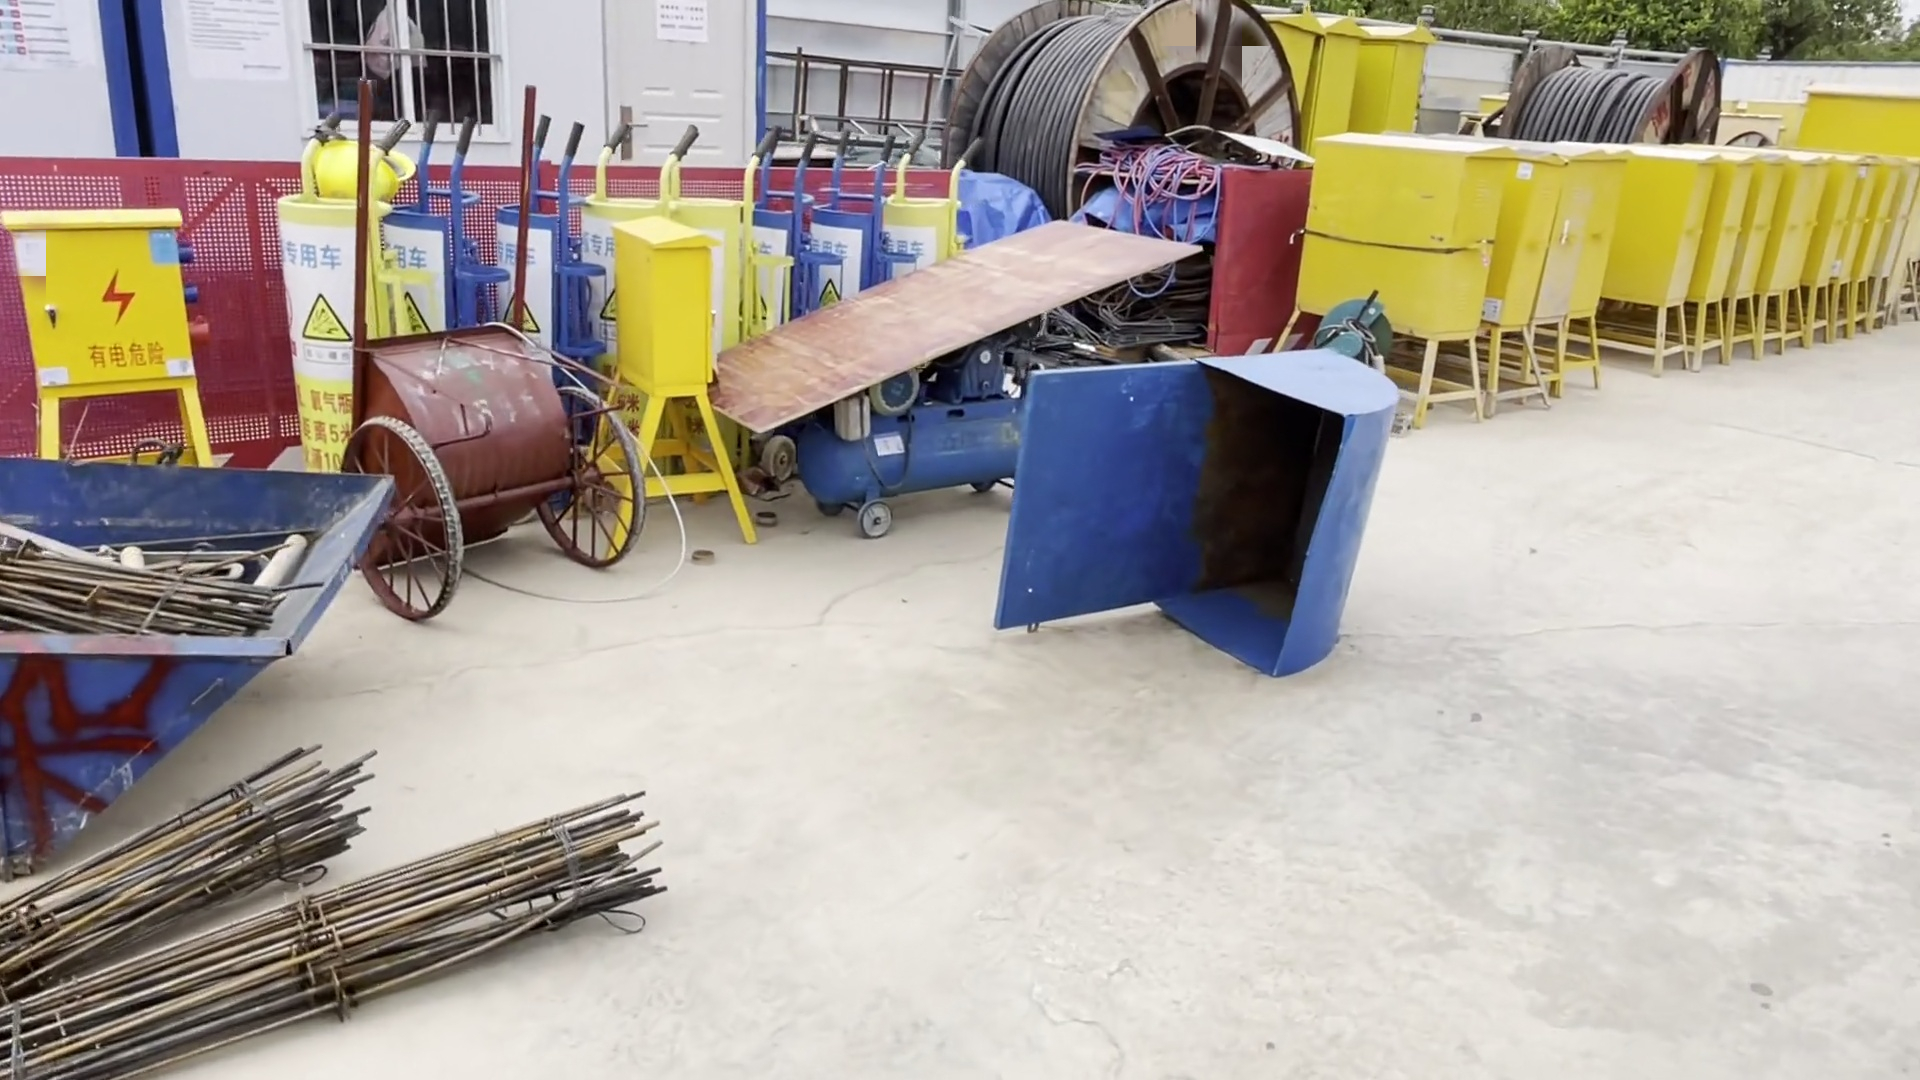ebox: (1263, 133, 1494, 422), (589, 212, 756, 564), (18, 198, 196, 465), (1473, 150, 1563, 415), (1619, 153, 1717, 377), (1544, 152, 1613, 394), (1356, 15, 1444, 132), (1309, 17, 1367, 135)
handcart: (348, 76, 642, 634)
hopper: (1, 444, 418, 872)
slogan: (278, 229, 348, 376)
